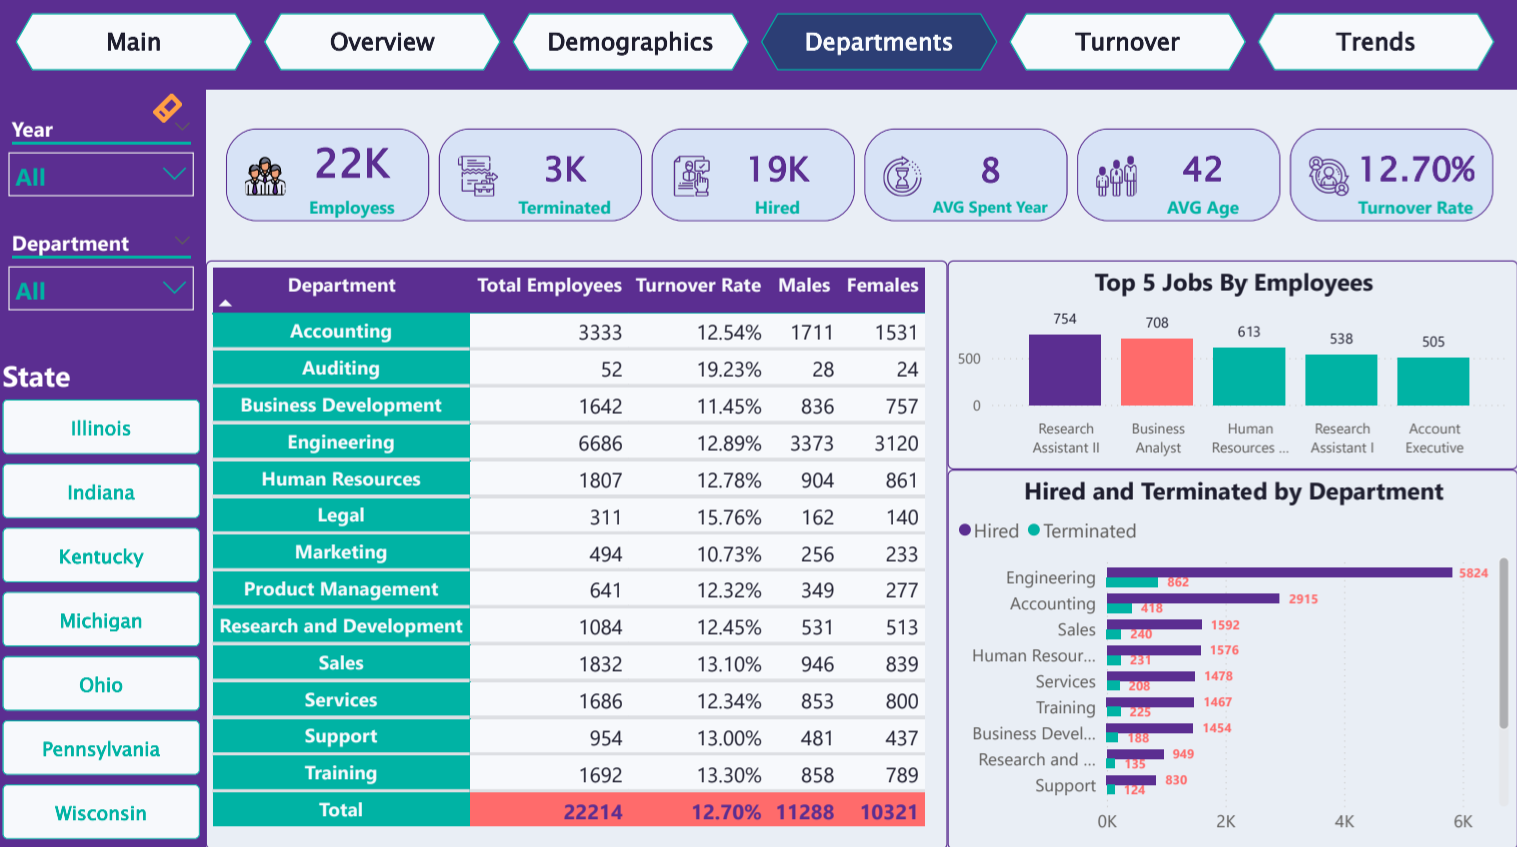

Layout of this report page (visuals, bound fields, positions):
{"tool":"powerbi","page":{"name":"Departments","canvas":[1280,720],"ordinal":3},"visuals":[{"type":"group","id":"g1","title":"Group 1","box":[0,0,1280,80],"z":0},{"type":"shape","box":[0,0,1280,80],"z":0,"group":"g1"},{"type":"shape","box":[0,0,1280,80],"z":0,"group":"g3"},{"type":"pageNavigator","box":[16,16,1248,48],"z":1000,"group":"g1"},{"type":"pageNavigator","box":[16,16,1248,48],"z":1000,"group":"g3"},{"type":"pivotTable","fields":{"Rows":["Human Resources.department"],"Values":["_Measures.Total_Emp","_Measures.Turnover Rate","_Measures.Total_Males","_Measures.Total_Females"]},"box":[176,224,624,496],"z":1000},{"type":"cardVisual","fields":{"Data":["_Measures.Total_Emp","_Measures.Total_Term","_Measures.Total_Hire","_Measures.AVG_Spend_Year","_Measures.AVG_Age","_Measures.Turnover Rate"]},"box":[176,96,1104,112],"z":2000},{"type":"clusteredBarChart","fields":{"Category":["Human Resources.department"],"Y":["Divide(_Measures.Total_Hire, ScopedEval(_Measures.Total_Hire, []))","Divide(_Measures.Total_Term_R, ScopedEval(_Measures.Total_Term_R, []))"]},"box":[800,400,480,320],"z":3000},{"type":"group","id":"g2","title":"Group 4","box":[0,0,1280,720],"z":4000},{"type":"group","id":"g3","title":"Group 1","box":[0,0,1280,80],"z":4000,"group":"g2"},{"type":"shape","box":[0,80,176,640],"z":5000,"group":"g5"},{"type":"columnChart","title":"Top 5 Jobs By Employees","fields":{"Category":["Human Resources.jobtitle"],"Y":["_Measures.Total_Emp"]},"box":[800,224,480,176],"z":5000},{"type":"group","id":"g4","title":"Group 2","box":[0,96,176,624],"z":6000,"group":"g5"},{"type":"slicer","fields":{"Values":["calender_table.Year"]},"box":[0,96,176,96],"z":8000,"group":"g4"},{"type":"actionButton","box":[128,80,48,32],"z":8001,"group":"g5"},{"type":"group","id":"g5","title":"Group 3","box":[0,80,176,640],"z":8002,"group":"g2"},{"type":"slicer","fields":{"Values":["Human Resources.department"]},"box":[0,192,176,96],"z":9000,"group":"g4"},{"type":"advancedSlicerVisual","title":"State","fields":{"Values":["Human Resources.location_state"]},"box":[0,304,176,416],"z":10000,"group":"g4"}]}

Visuals, with their boxes in screenshot pixels (x1, y1, x2, y2), scaled from the page's 1280x720 canvas onto the 1517x847 screenshot:
"Group 1" group: 0 0 1516 94
shape: 0 0 1516 94
shape: 0 0 1516 94
pageNavigator: 19 19 1498 75
pageNavigator: 19 19 1498 75
pivotTable - Human Resources.department x _Measures.Total_Emp: 209 264 948 846
cardVisual - _Measures.Total_Emp x _Measures.Total_Term: 209 113 1516 245
clusteredBarChart - Human Resources.department x Divide(_Measures.Total_Hire, ScopedEval(_Measures.Total_Hire, [])): 948 471 1516 846
"Group 4" group: 0 0 1516 846
"Group 1" group: 0 0 1516 94
shape: 0 94 209 846
"Top 5 Jobs By Employees" columnChart: 948 264 1516 471
"Group 2" group: 0 113 209 846
slicer - calender_table.Year: 0 113 209 226
actionButton: 152 94 209 132
"Group 3" group: 0 94 209 846
slicer - Human Resources.department: 0 226 209 339
"State" advancedSlicerVisual: 0 358 209 846
